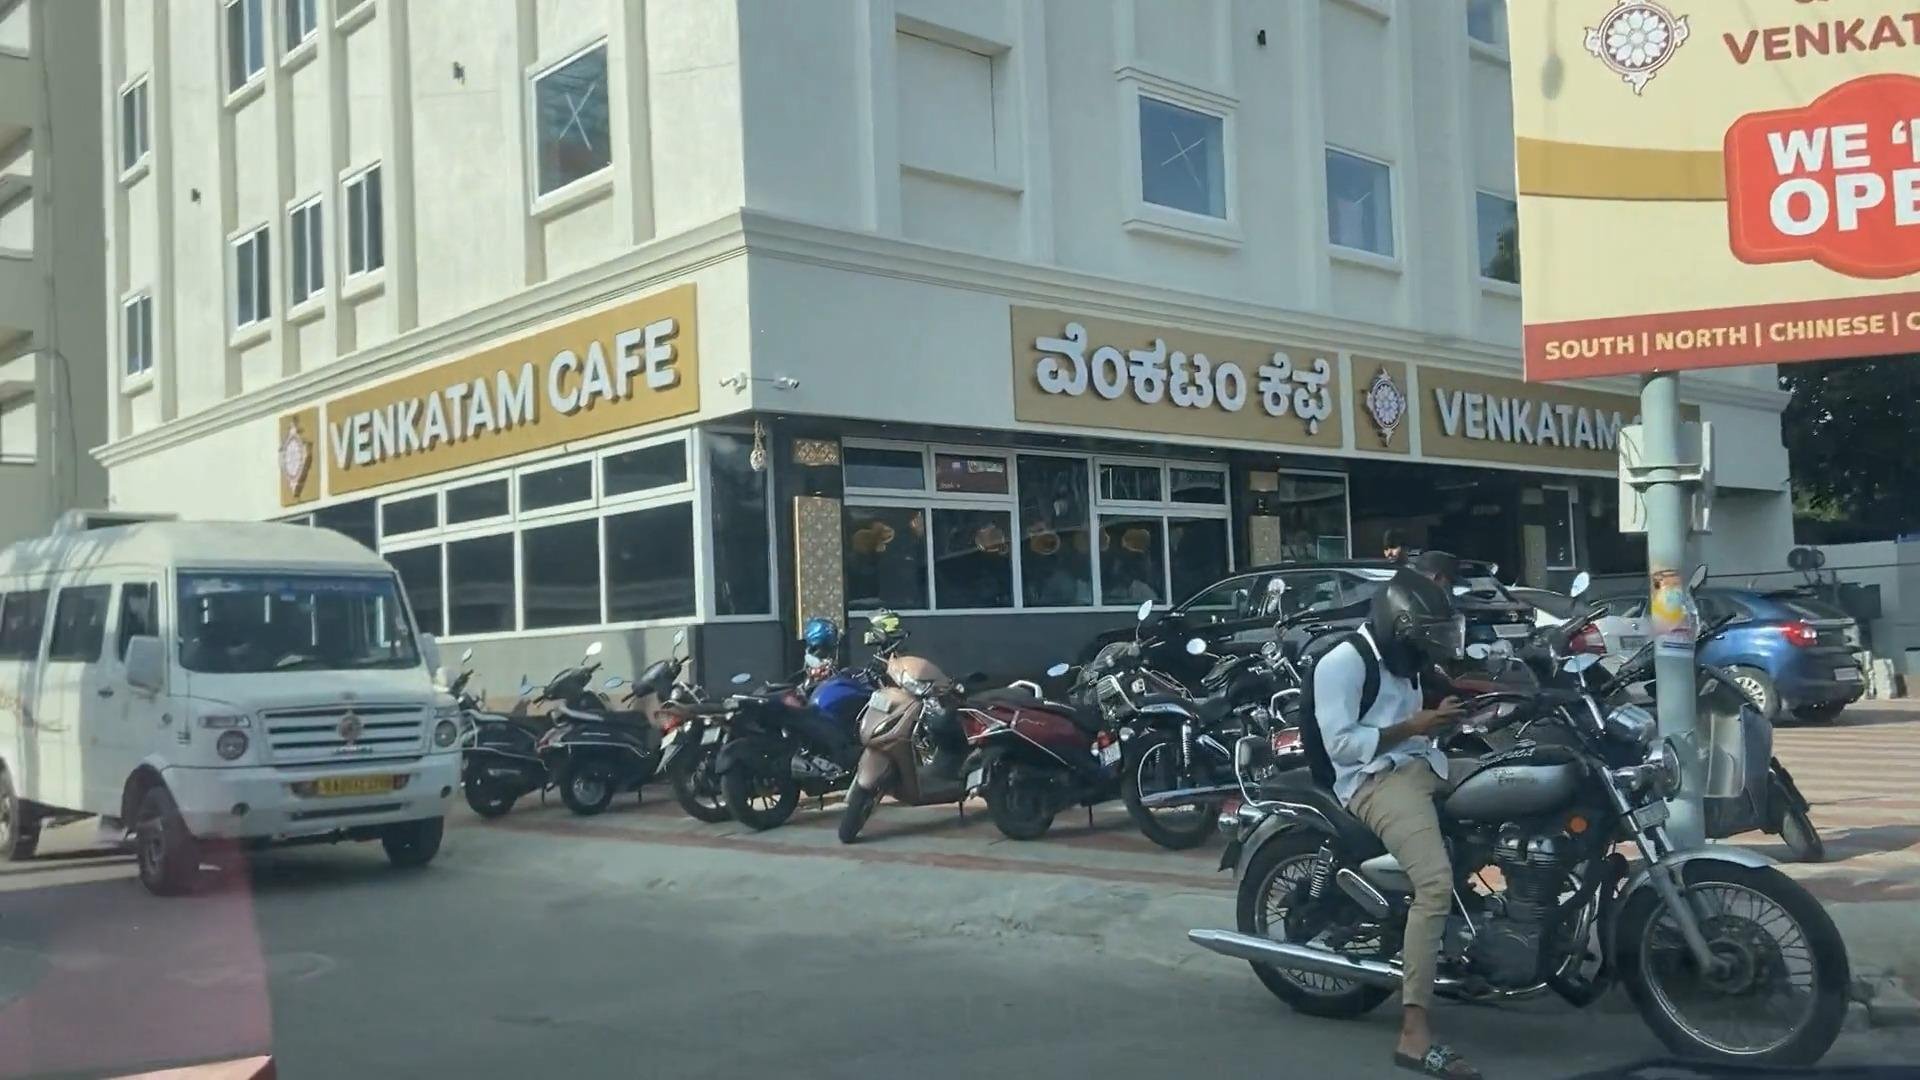HMV: (0, 526, 440, 895)
LMV: (847, 650, 956, 849), (580, 655, 678, 815)
RoadDamages: (128, 938, 367, 1011)
